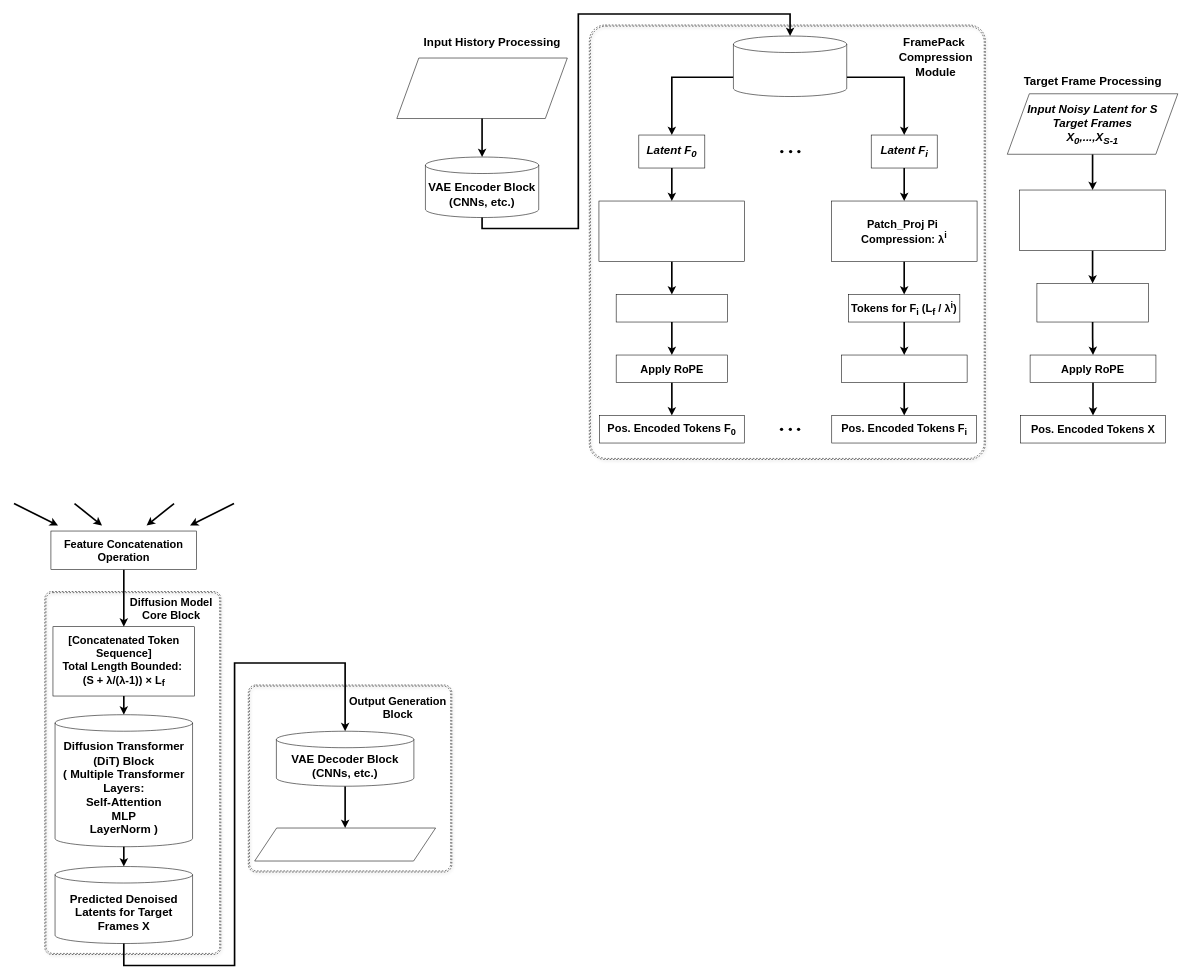
This 1187x980 diagram has some shape labels left out. Here are the shapes that lost their labels. From the top down, the centre of each, then its label:
point 790,66: Latent History Frames L F0 ,..., L FT-1
point 481,88: Input Video Frames (History) F T-1 ,..., F 0
point 671,231: Patch Projection Layer P0 (e.g., Conv/Linear) Compression: λ 0
point 1092,220: Standard Patch Projection Layer (No FramePack Compression)
point 672,308: Tokens for F 0 (L f )
point 1092,302: Tokens for Target X (S× L f )
point 904,368: Apply RoPE (Aligned)
point 345,844: Generated S Video Frames
